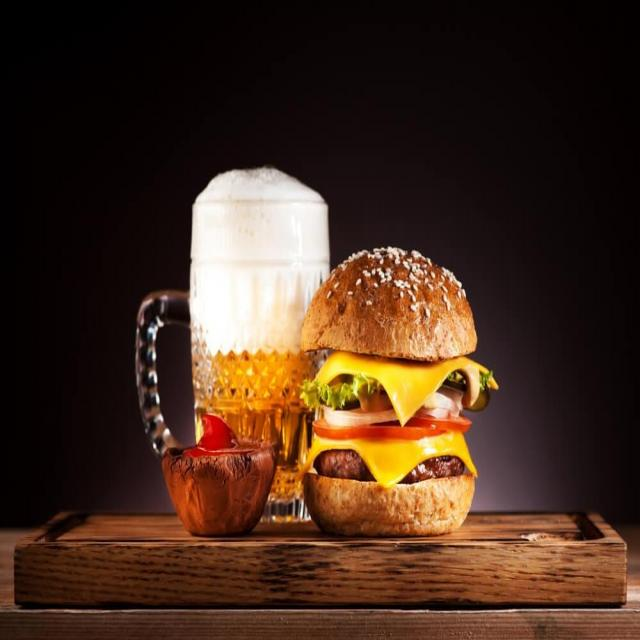glass-mug: (131, 178, 332, 545)
